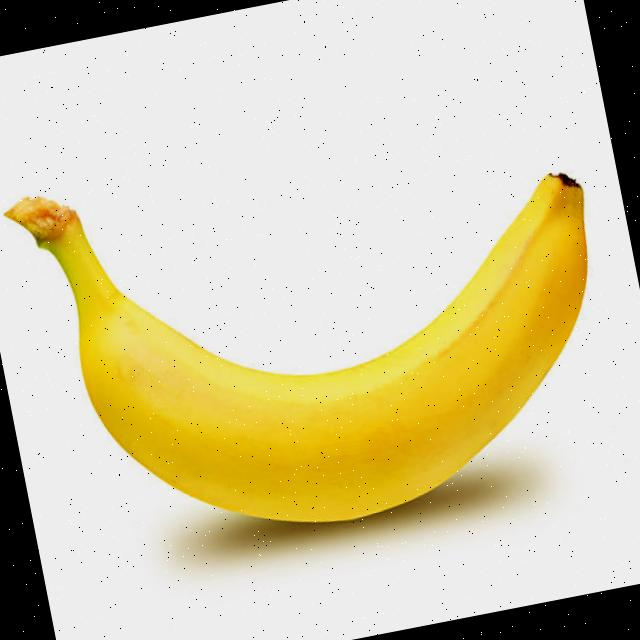Ripe: (42, 110, 640, 570)
